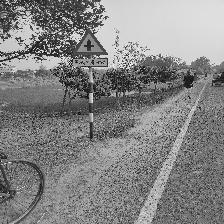Crossroad: (70, 24, 110, 70)
